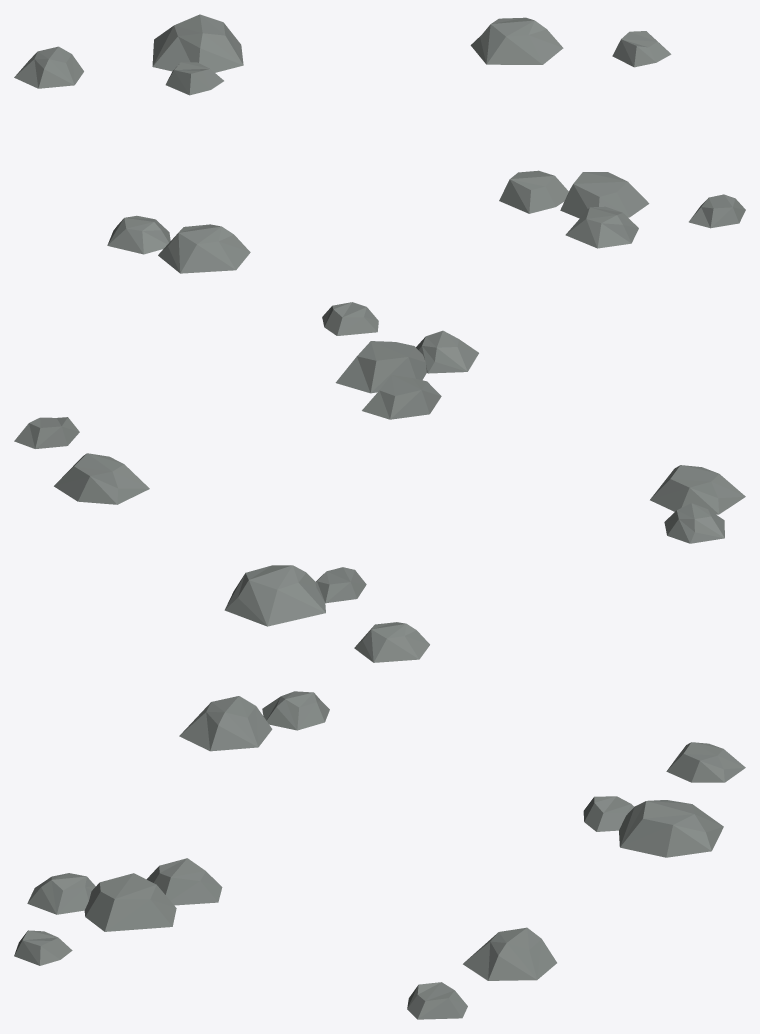
Rendered from SM_Generic_Small_Rocks_02.fbx.
3 views of the same model, one above another, from view 1: azimuth 30°, elevation 25°; view 2: azimuth 150°, elevation 25°; view 3: azimuth 270°, elevation 25° (orthographic). The views are drawn at different scales.
Visible parts, largest first — view 1: SM_Generic_Small_Rocks_02; view 2: SM_Generic_Small_Rocks_02; view 3: SM_Generic_Small_Rocks_02.
Boxes of the visible parts, box(x1,y1,x2,y2) form: SM_Generic_Small_Rocks_02: box(14, 14, 745, 273); SM_Generic_Small_Rocks_02: box(14, 302, 745, 662); SM_Generic_Small_Rocks_02: box(14, 691, 745, 1019).
Size of the model in its own units: 204 by 9.5 by 197.
